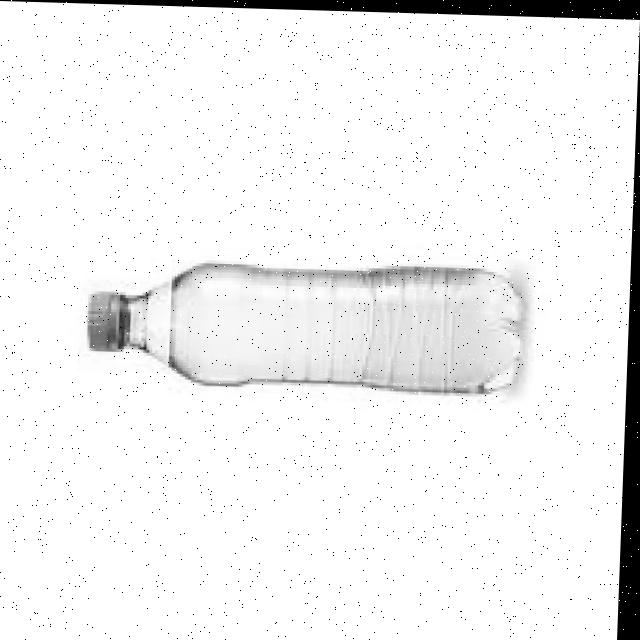bottle: (59, 189, 542, 424)
